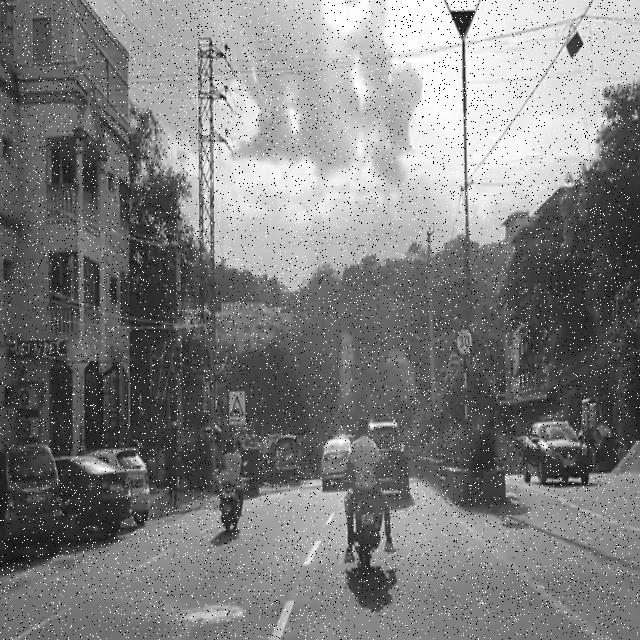speedlimit_30: (455, 324, 482, 360)
